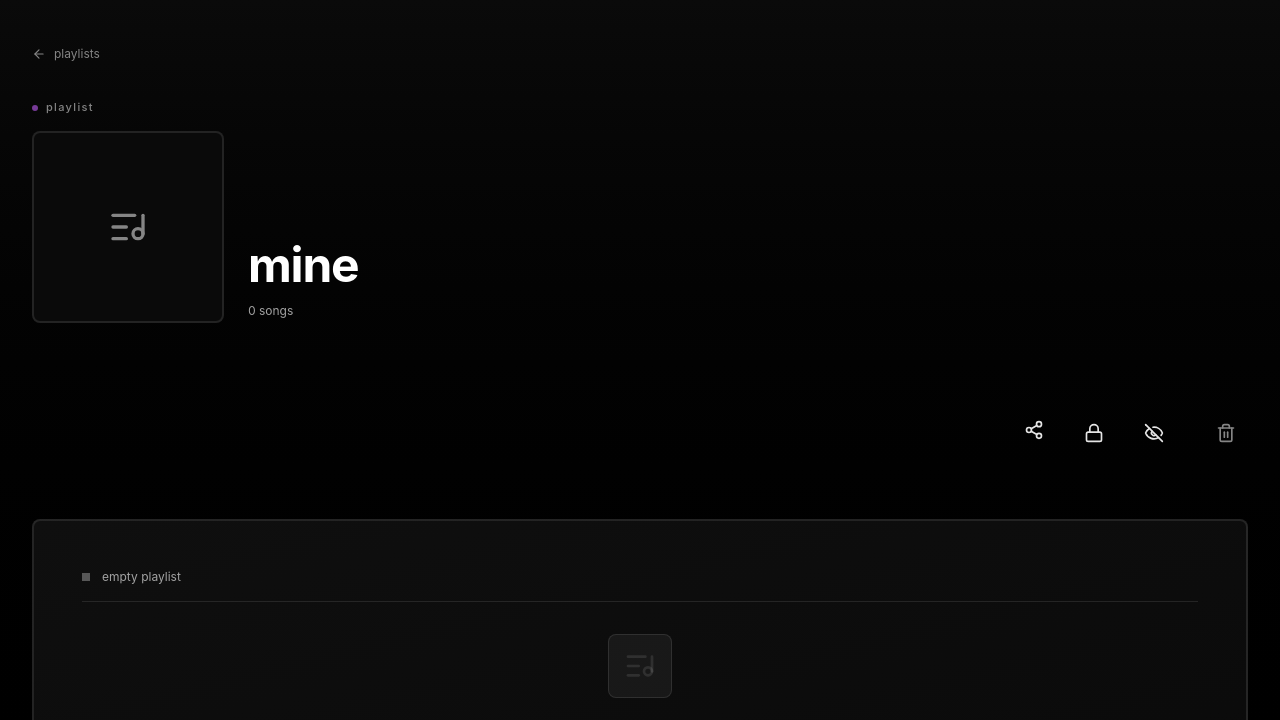
the playlist page's rename field and Escape › cancels the rename, saves nothing, and marks the key as used
Click the heading "Mine" at (303, 265), box [248,235,358,294]
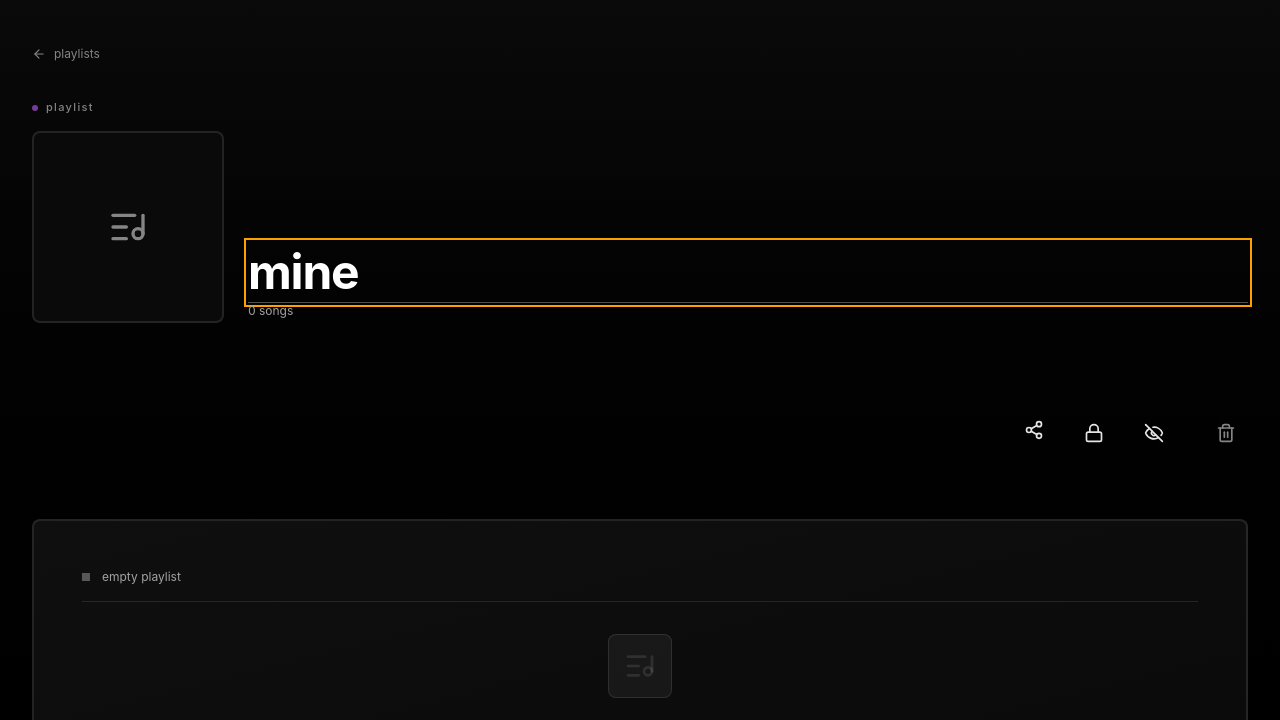
Check: the field holds "Mine"
Press Escape in the field, box [248,242,1248,303]
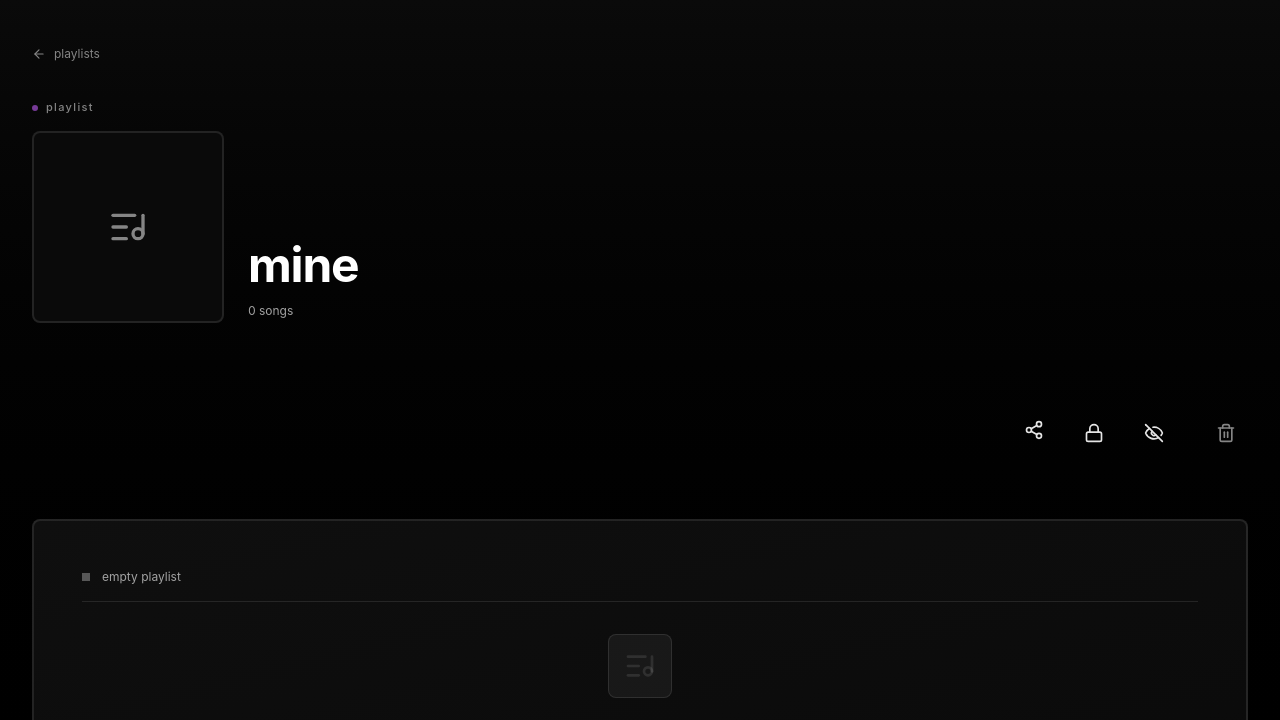
Check: the field is gone
